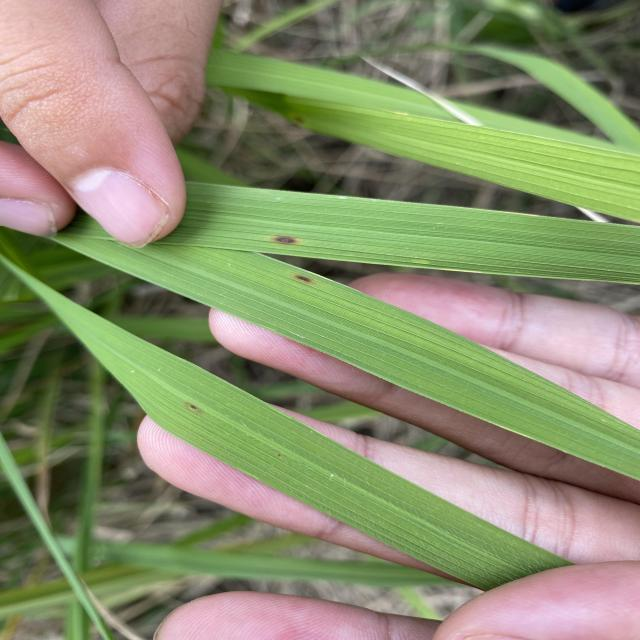Dom nau: (270, 235, 298, 244), (294, 273, 313, 283), (188, 403, 199, 411)
